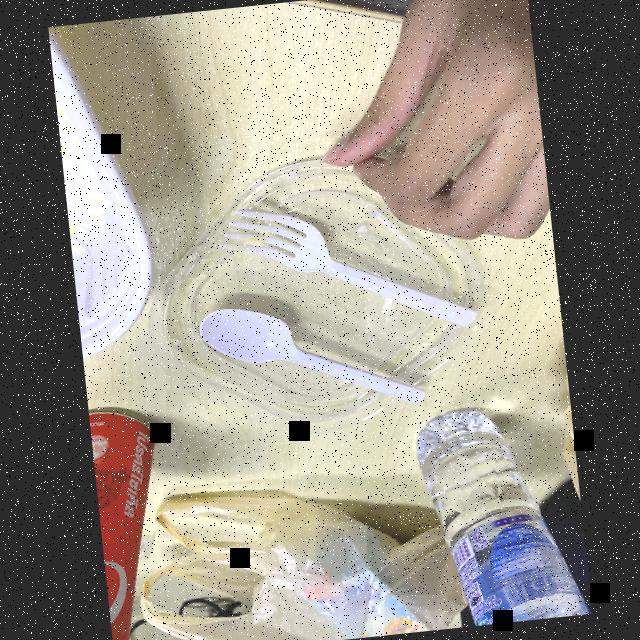plastic_cultery: (214, 183, 496, 354), (190, 288, 434, 426)
